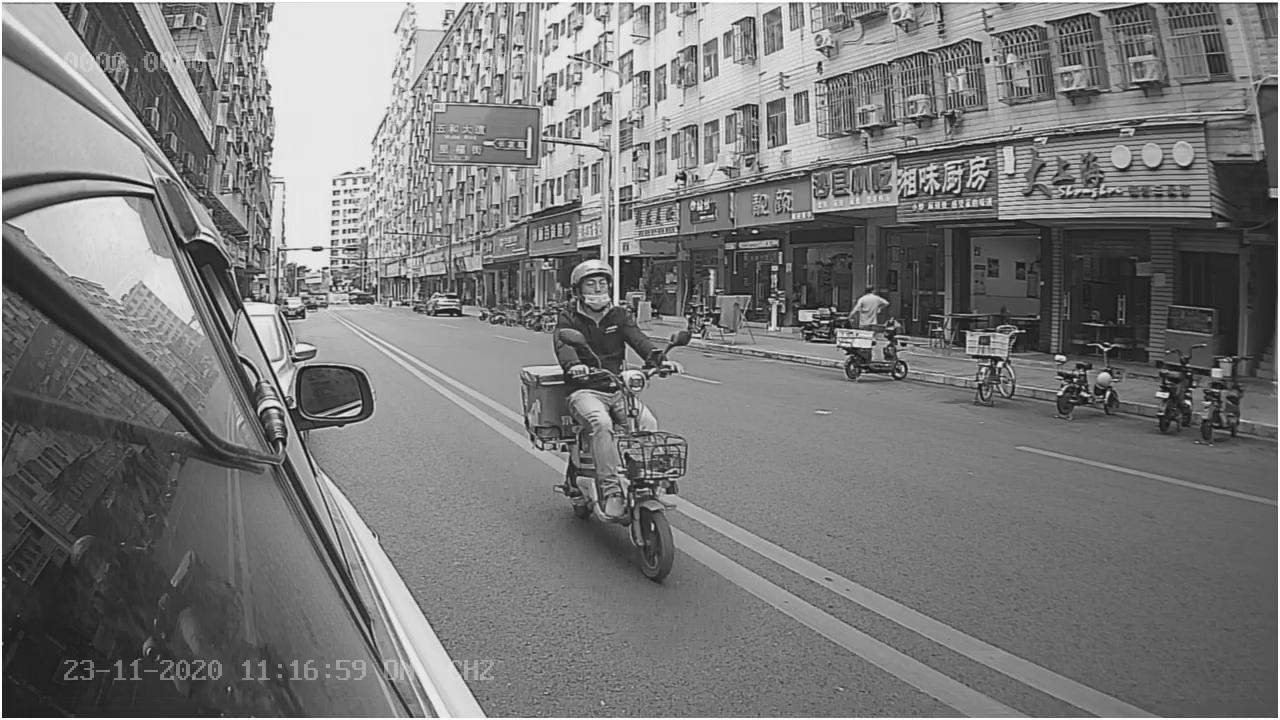person: (542, 257, 675, 368)
